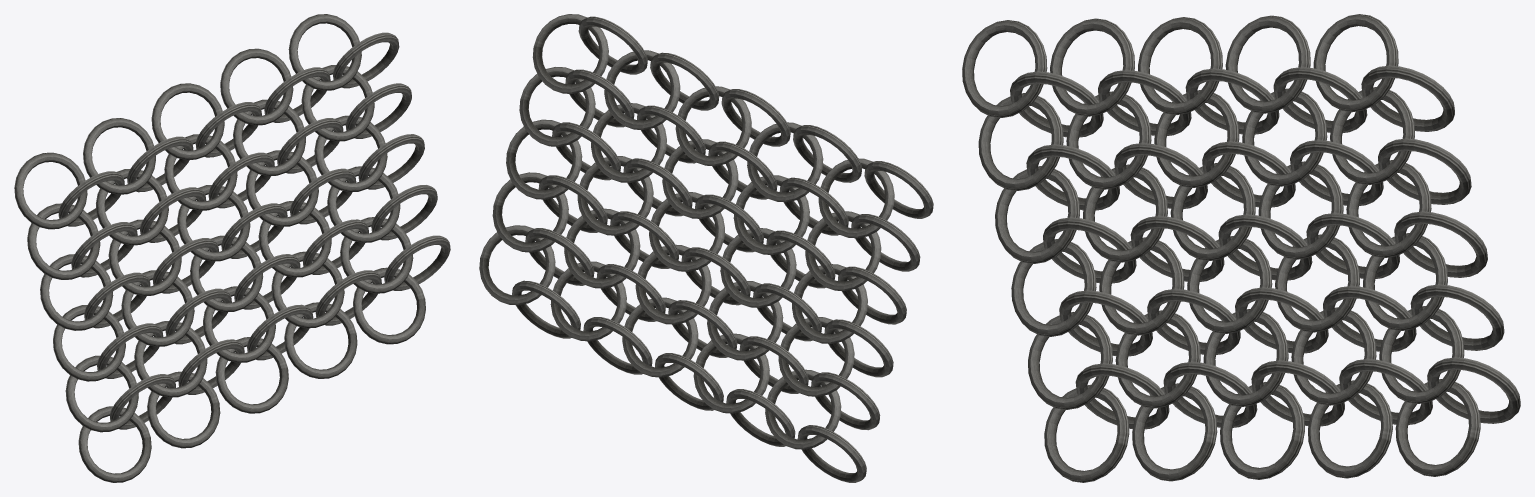
File: chainmail.obj
3 renders of one model, left to right at view 1: azimuth 30°, elevation 25°; view 2: azimuth 150°, elevation 25°; view 3: azimuth 330°, elevation 25°, orthographic. The views are drawn at different scales.
Parts seen in each view (by area): view 1: ring_00_00, ring_00_03, ring_00_04, ring_00_02, ring_00_01, ring_10_00, ring_02_00, ring_04_00, ring_08_00, ring_10_02, ring_06_00, ring_10_01 (+43 smaller); view 2: ring_01_04, ring_07_04, ring_05_04, ring_09_04, ring_01_00, ring_03_04, ring_01_03, ring_01_02, ring_01_01, ring_07_01, ring_09_03, ring_07_03 (+43 smaller); view 3: ring_00_00, ring_00_04, ring_00_03, ring_00_01, ring_00_02, ring_10_00, ring_10_04, ring_10_03, ring_10_01, ring_10_02, ring_06_00, ring_02_00 (+43 smaller).
Part boxes in pixels (x1,y1,x2,y2): ring_00_00: (14, 152, 87, 229); ring_00_03: (220, 48, 293, 125); ring_00_04: (288, 14, 361, 90); ring_00_02: (151, 83, 224, 159); ring_00_01: (83, 118, 155, 194); ring_10_00: (78, 406, 151, 482); ring_02_00: (27, 203, 100, 279); ring_04_00: (40, 254, 113, 330); ring_08_00: (65, 355, 138, 432); ring_10_02: (215, 337, 288, 413); ring_06_00: (53, 305, 125, 381); ring_10_01: (147, 371, 220, 448); ring_01_04: (532, 14, 608, 93); ring_07_04: (492, 172, 568, 252); ring_05_04: (506, 119, 582, 199); ring_09_04: (479, 225, 555, 305); ring_01_00: (818, 158, 894, 238); ring_03_04: (519, 67, 595, 146); ring_01_03: (604, 50, 680, 129); ring_01_02: (675, 86, 751, 166); ring_01_01: (747, 122, 823, 202); ring_07_01: (707, 281, 783, 360); ring_09_03: (550, 261, 626, 341); ring_07_03: (564, 208, 640, 288); ring_00_00: (962, 20, 1047, 117); ring_00_04: (1313, 14, 1398, 112); ring_00_03: (1225, 15, 1310, 113); ring_00_01: (1050, 18, 1134, 116); ring_00_02: (1138, 17, 1222, 114); ring_10_00: (1044, 384, 1129, 482); ring_10_04: (1395, 379, 1480, 476); ring_10_03: (1308, 380, 1392, 478); ring_10_01: (1132, 383, 1217, 481); ring_10_02: (1220, 382, 1304, 479); ring_06_00: (1011, 239, 1096, 336); ring_02_00: (978, 93, 1063, 190).
Size of the model in its own units: 107 by 95 by 9.23.
1 material, 1 textured.
